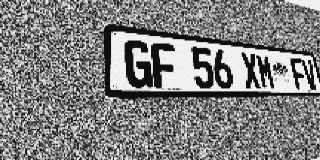5: (191, 46, 216, 88)
6: (211, 49, 234, 89)
F: (151, 42, 178, 88), (289, 57, 308, 89)
G: (124, 39, 153, 88)
M: (255, 54, 276, 89)
V: (301, 59, 319, 89)
X: (240, 52, 262, 89)
